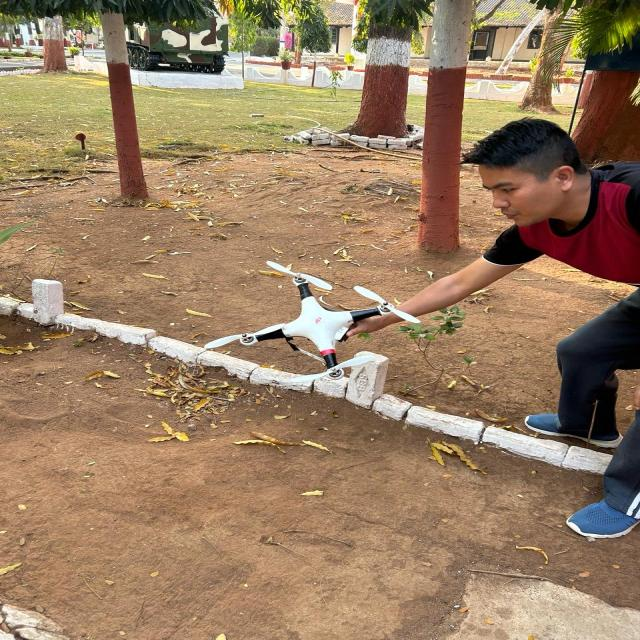drone: (194, 254, 433, 394)
